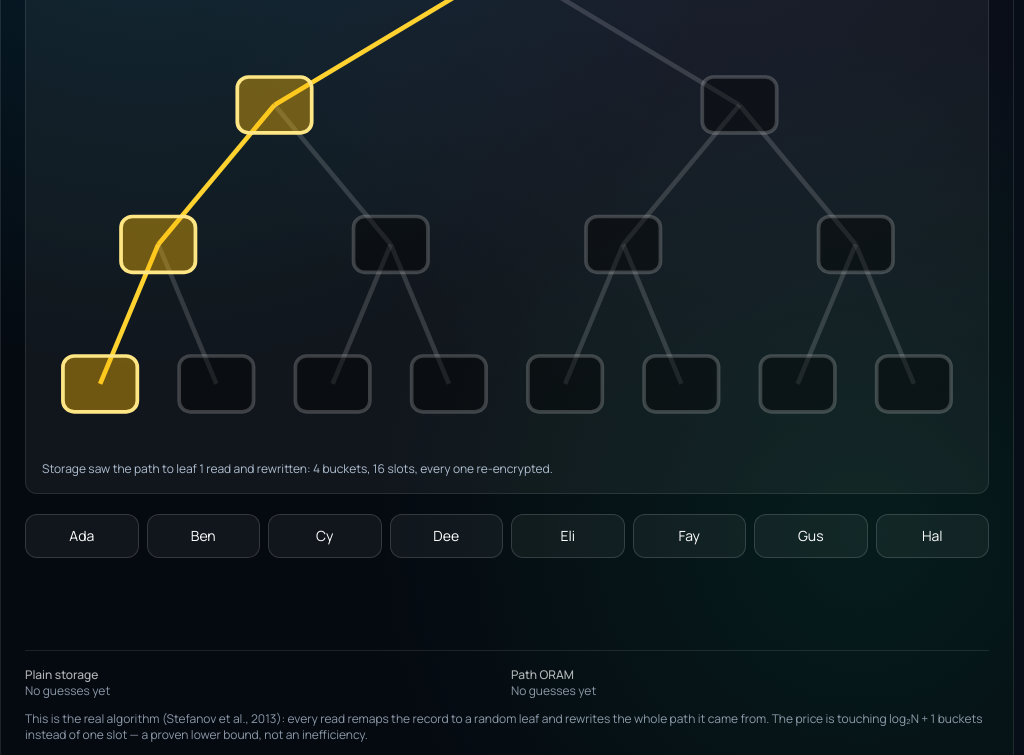
OramAccessGame › records a guess once, then offers the next read
(page scrolled)
Click the button with test id "oram-guess-0". click: x=82, y=536
box: [25,514,138,558]
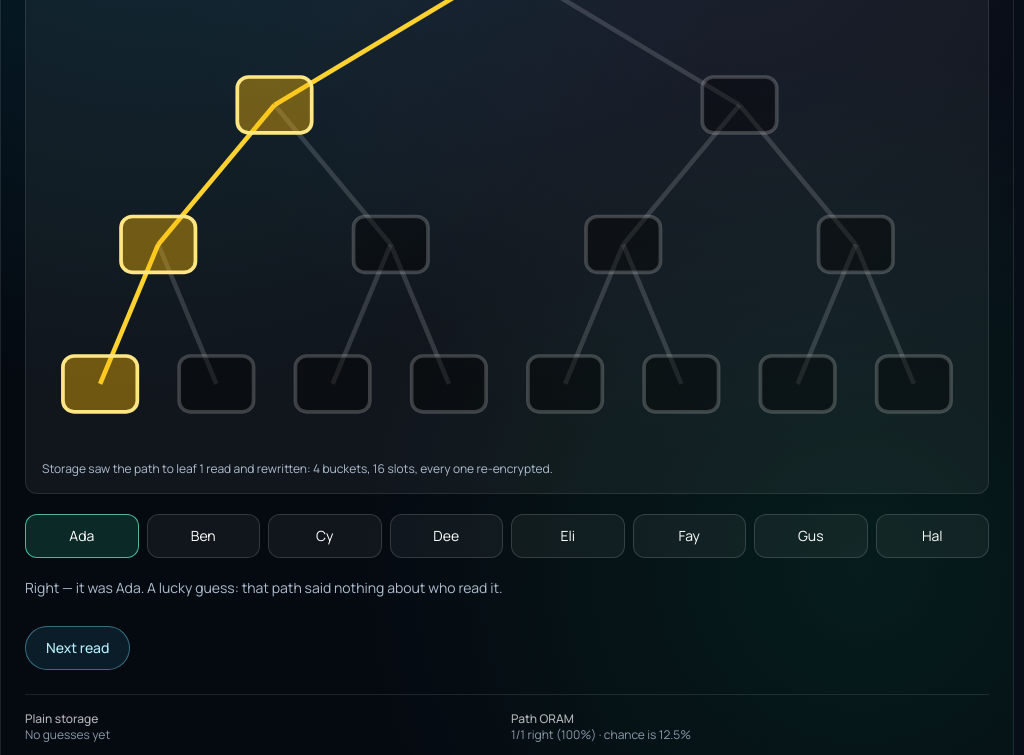
Expected: the button with test id "oram-guess-1" is disabled, [146,514,260,558]
Expected: the text with test id "oram-accuracy-oram" reads "1/1 right (100%) · chance is 12.5%", [511,726,691,743]
Click the button with test id "oram-next". click: x=78, y=648
box: [25,626,130,670]
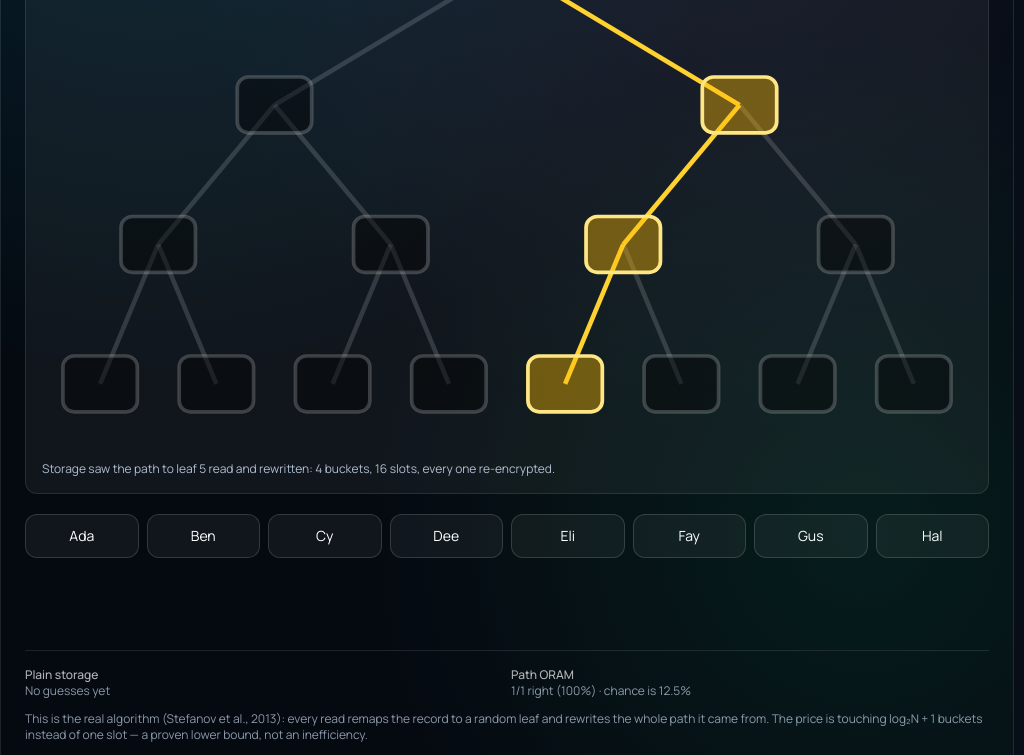
Expected: the button with test id "oram-next" is gone
